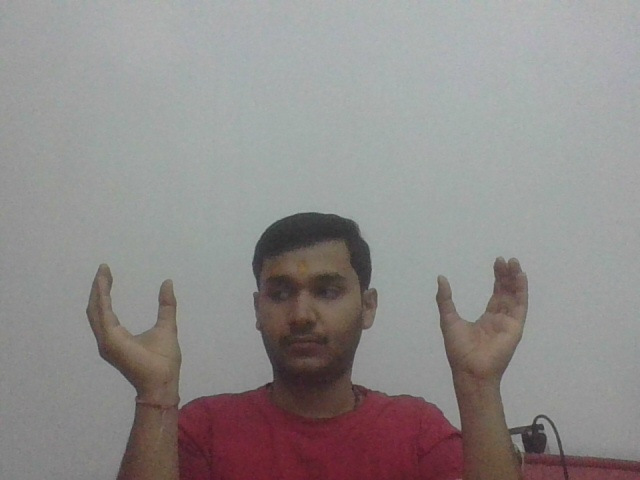U: (83, 257, 184, 395), (435, 254, 533, 388)
